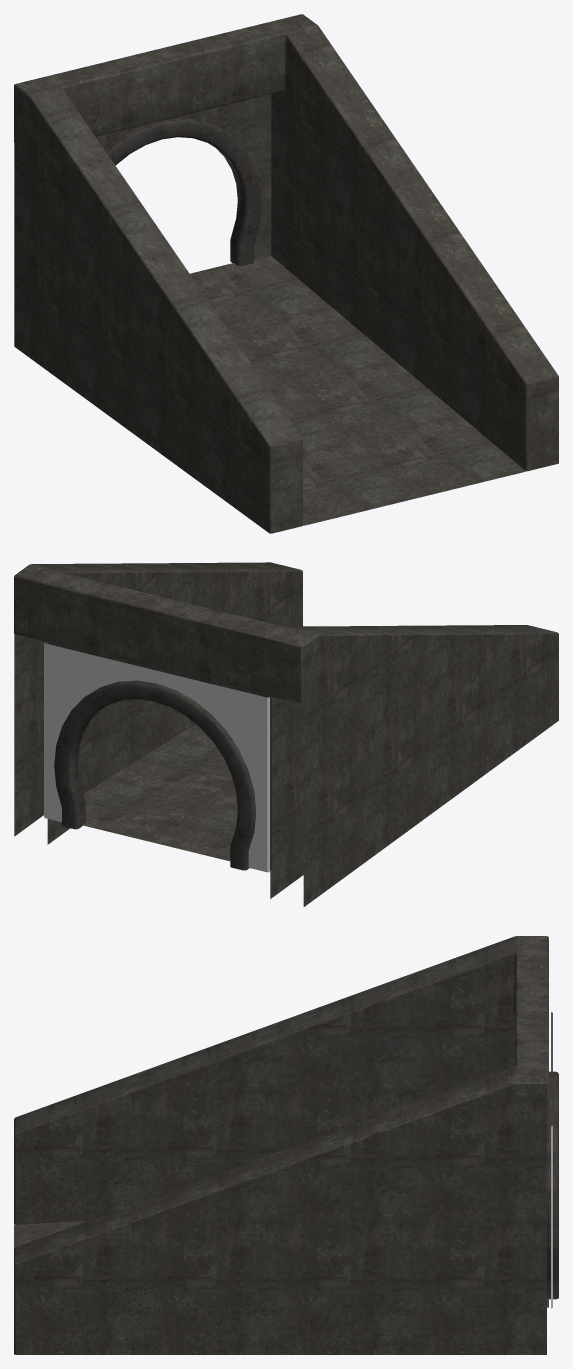
Rendered from bunker_entrance_1.fbx.
3 renders of one model, top to bottom at view 1: azimuth 30°, elevation 25°; view 2: azimuth 150°, elevation 25°; view 3: azimuth 270°, elevation 25°, orthographic. The views are drawn at different scales.
Parts seen in each view (by area): view 1: bunker_entrance_1; view 2: bunker_entrance_1; view 3: bunker_entrance_1.
Boxes of the visible parts, x1,y1,x2,y2 form: bunker_entrance_1: [14, 14, 558, 533]; bunker_entrance_1: [14, 562, 558, 906]; bunker_entrance_1: [14, 936, 558, 1354].
Size of the model in its own units: 5.2 by 8.15 by 4.5.
